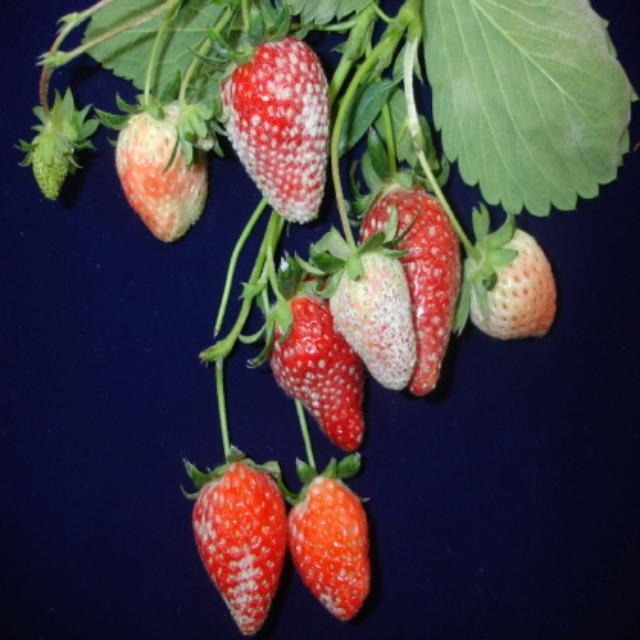Powdery Mildew Fruit: (357, 177, 462, 397), (218, 29, 331, 224), (265, 273, 366, 453), (192, 458, 289, 637), (325, 244, 418, 392), (288, 474, 371, 622)
